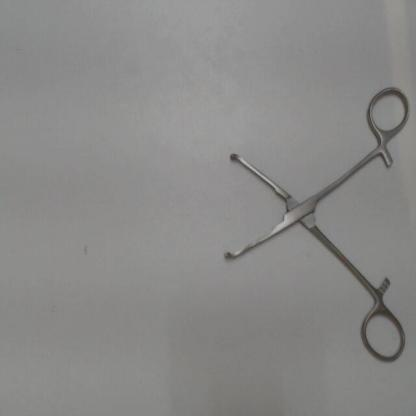Allis Tissue Forceps: (214, 78, 414, 371)
